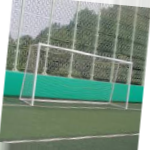goals: (18, 41, 134, 113)
